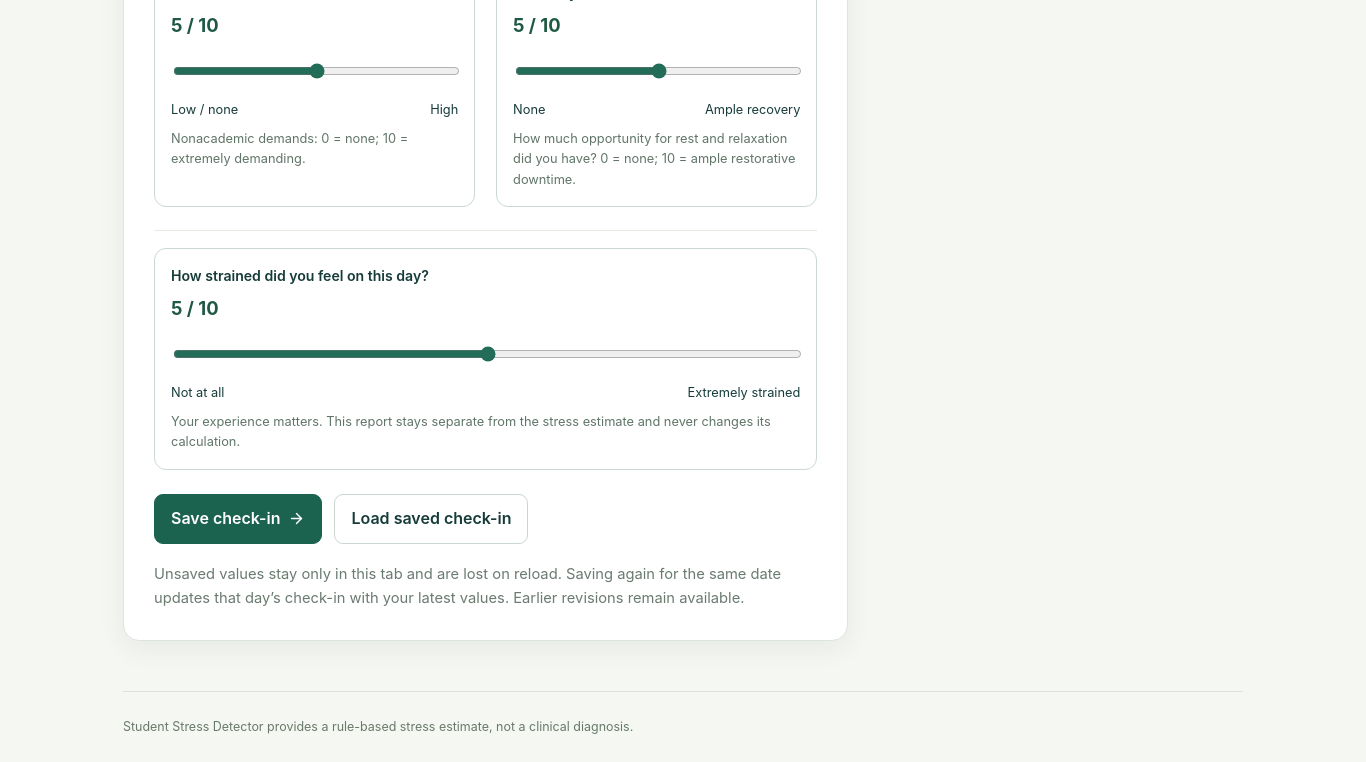
intentional observations › submits displayed defaults without touching sliders
The image size is (1366, 762).
(page scrolled)
Step 1. Click the button "Save check-in" → x=238, y=519, box [154,494,322,544]
(page scrolled)
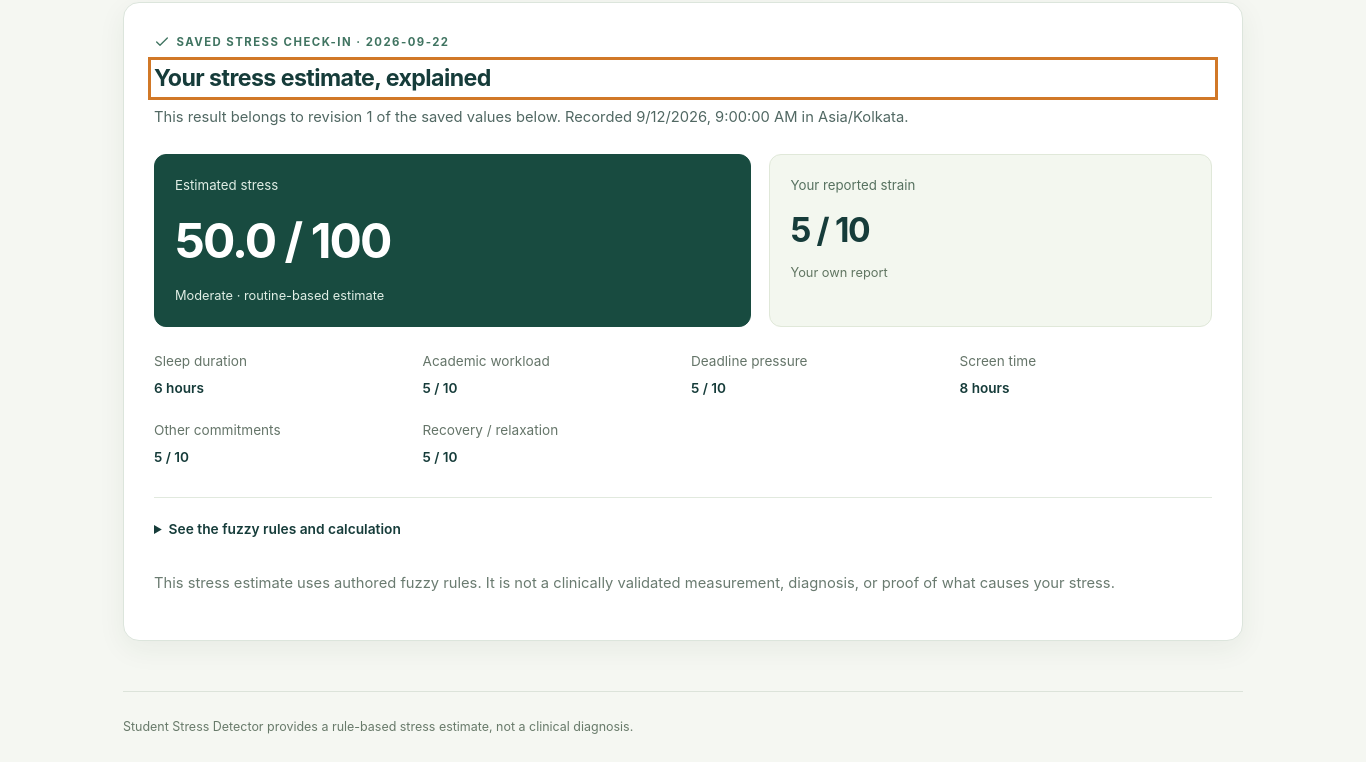
Expected: the text "50.0 / 100" is shown, [175,210,390,270]
